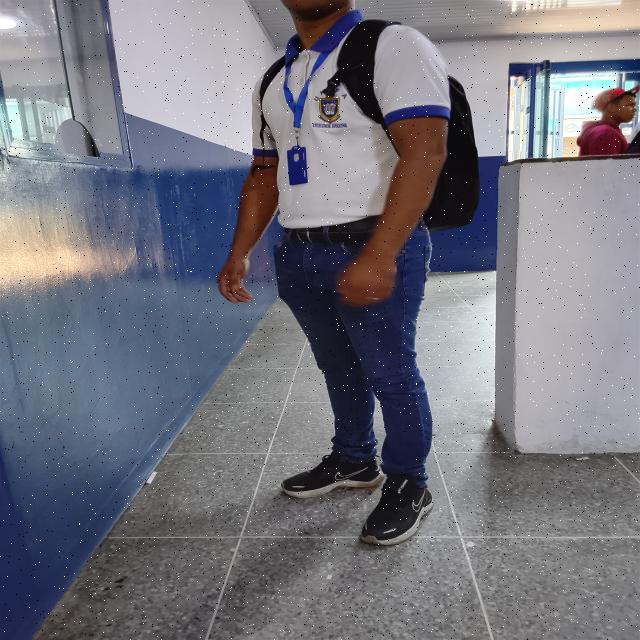carnet: (286, 147, 308, 186)
pantalon_oscuro: (274, 221, 432, 489)
uniforme_superior: (251, 9, 451, 228)
